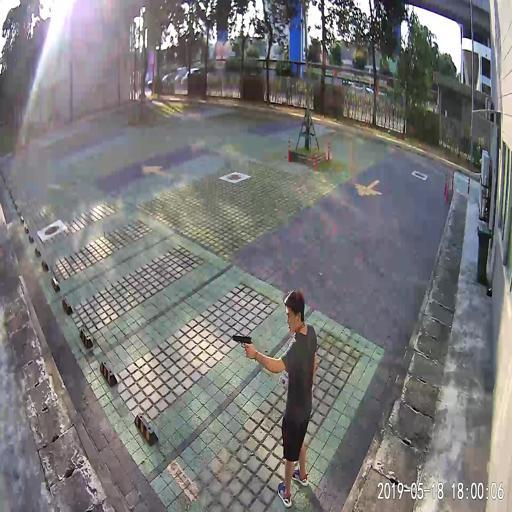Handgun: (231, 332, 251, 356)
